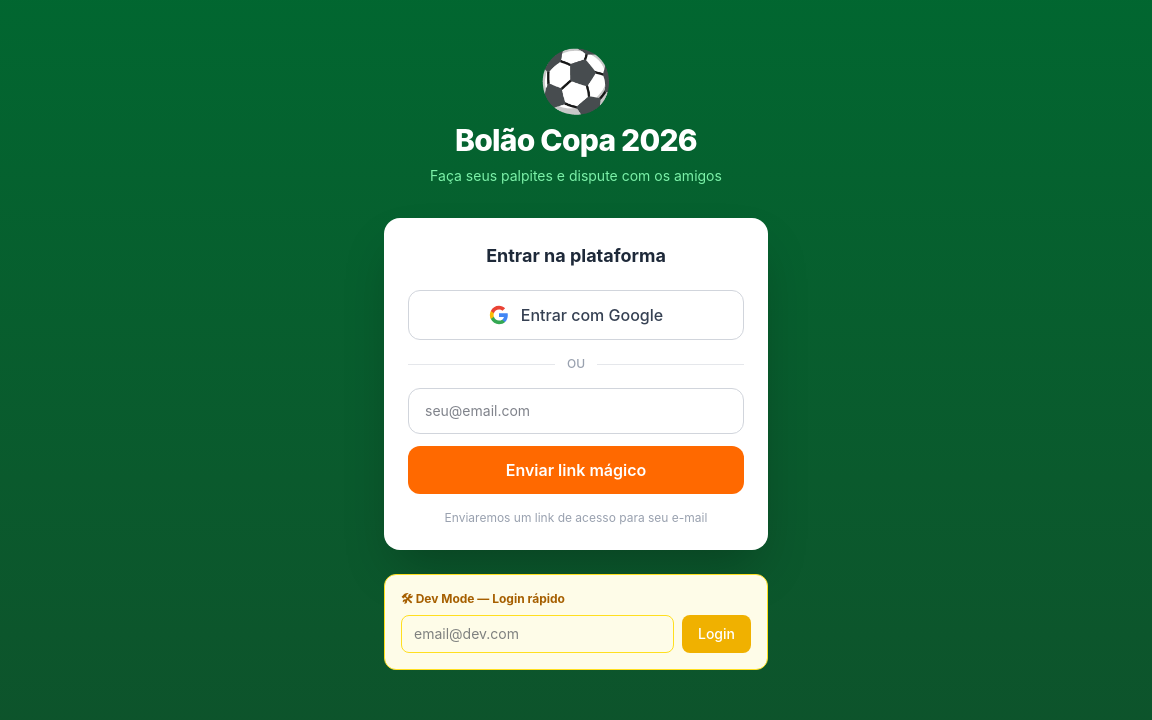
Test case: LoginPage › shows success state after sending magic link
Type "user@test.com" into the field with placeholder "seu@email.com" at coordinates (576, 411), box x1=408 y1=388 x2=744 y2=434
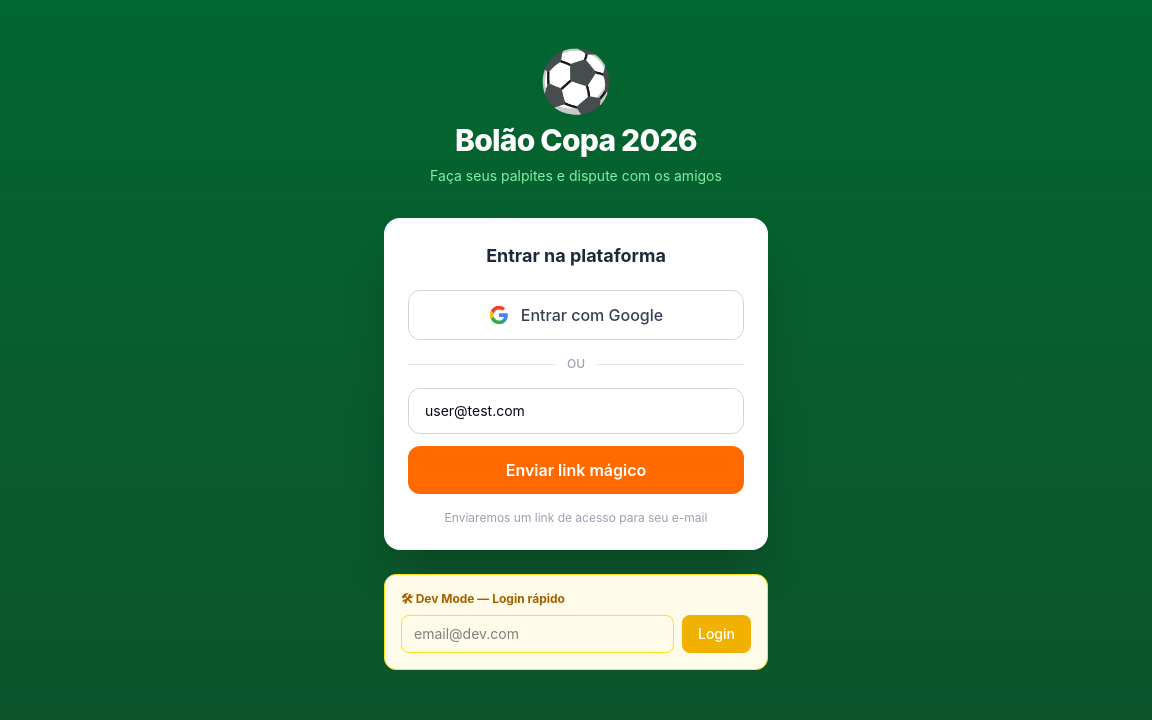
Click the button "Enviar link mágico" at coordinates (576, 470), box x1=408 y1=446 x2=744 y2=494
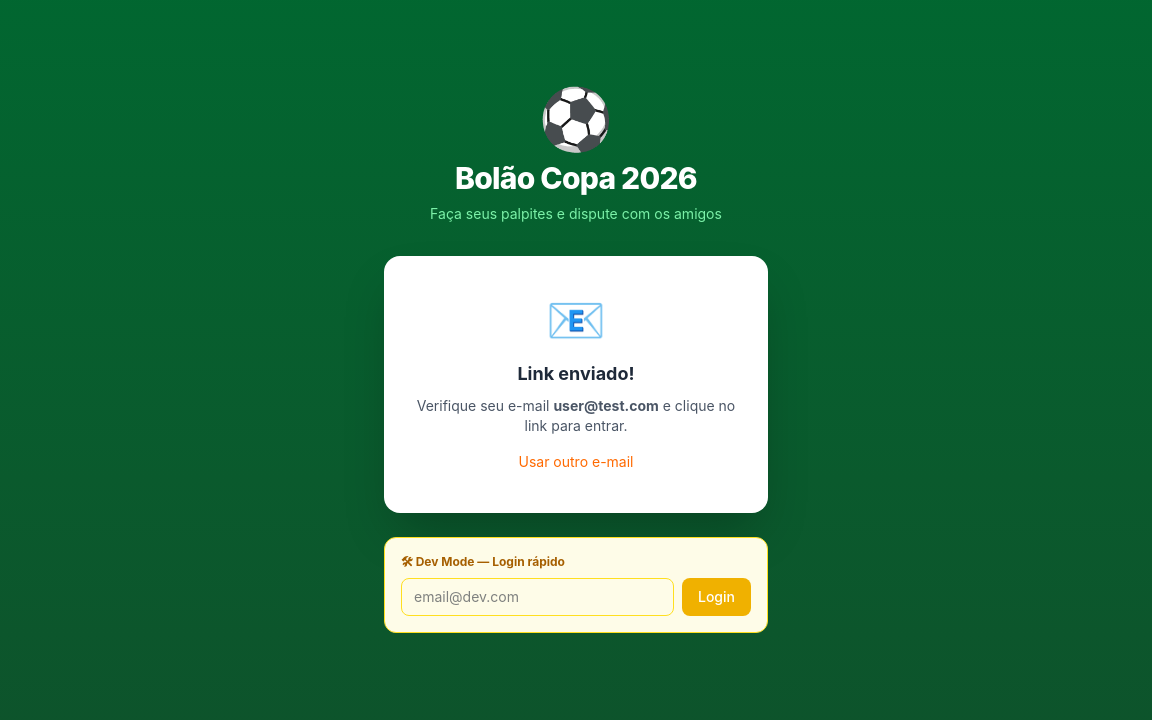
expect the heading "Link enviado!" is shown: met, box x1=517 y1=362 x2=635 y2=384
expect the text "Verifique seu e-mail" is shown: met, box x1=417 y1=396 x2=554 y2=414
